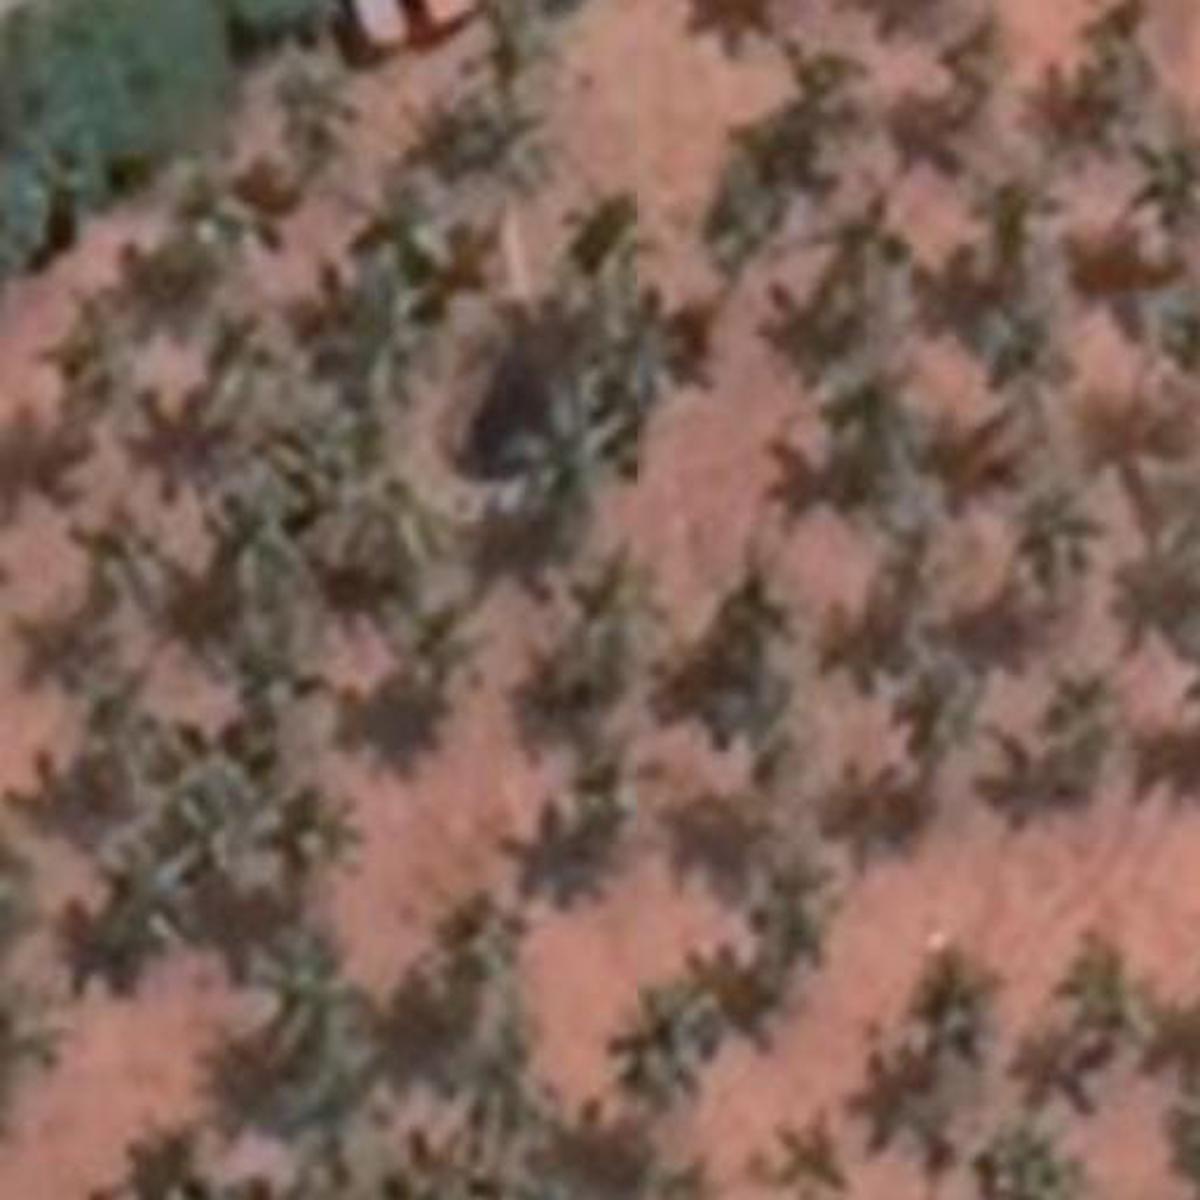coconut: (492, 389, 635, 525), (311, 269, 454, 396), (585, 284, 719, 405), (234, 937, 370, 1051), (145, 724, 278, 834), (548, 549, 667, 663), (216, 623, 338, 724), (700, 166, 799, 290), (878, 665, 1000, 764), (604, 989, 726, 1087), (855, 433, 965, 541), (37, 300, 154, 400), (103, 843, 225, 937), (778, 292, 884, 396), (745, 860, 851, 963), (1021, 503, 1132, 600), (909, 953, 1007, 1062), (271, 403, 382, 499), (1021, 65, 1122, 166), (260, 782, 360, 884), (1066, 942, 1162, 1047), (67, 513, 173, 604), (363, 178, 459, 269), (810, 192, 914, 276), (1129, 135, 1200, 253), (982, 304, 1075, 391), (487, 7, 569, 103), (173, 187, 271, 267), (281, 63, 375, 145), (888, 1080, 984, 1157), (459, 112, 557, 185), (405, 607, 489, 691), (989, 1138, 1103, 1200), (571, 747, 667, 820), (175, 435, 290, 495), (1057, 682, 1138, 752), (225, 495, 295, 567)
